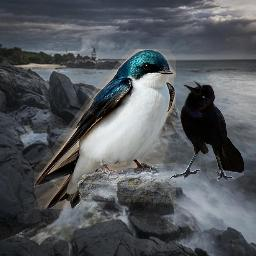Crow: (170, 81, 244, 181)
Swallow: (34, 49, 176, 209)
